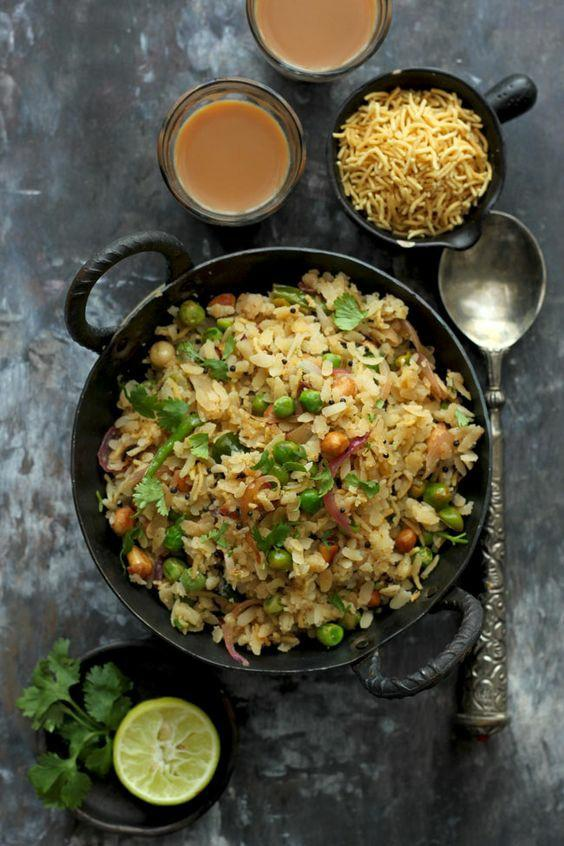Poha: (94, 267, 479, 660)
